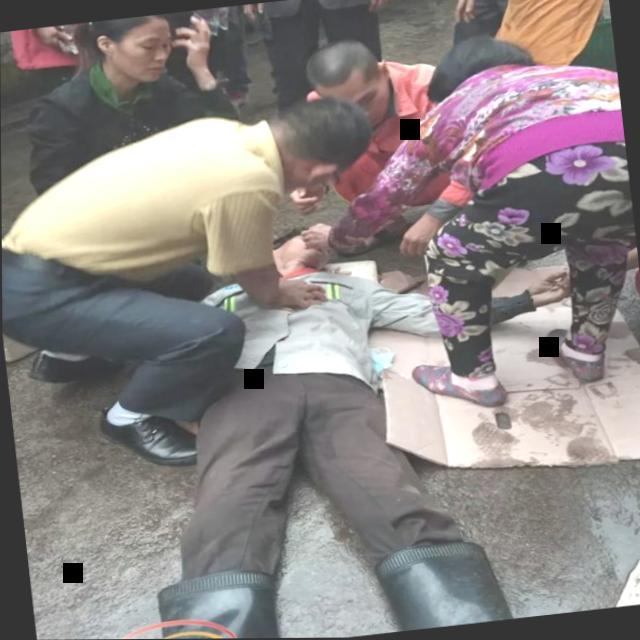Fall-Detected: (82, 186, 576, 640)
